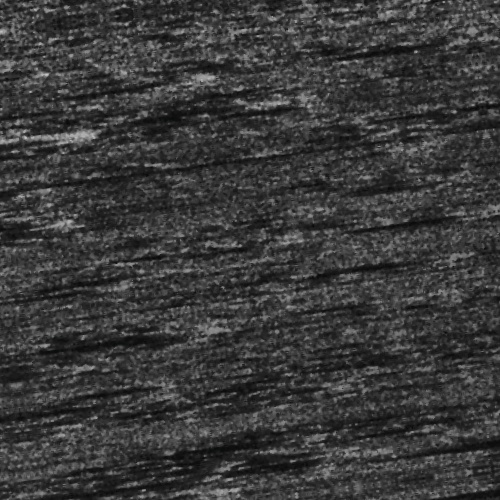object: (238, 453, 363, 476), (15, 100, 130, 119), (123, 477, 206, 500), (75, 378, 200, 389), (389, 276, 500, 287), (166, 63, 239, 74), (41, 187, 94, 202), (0, 180, 65, 189), (155, 319, 218, 326), (442, 65, 495, 72), (112, 476, 185, 481), (128, 256, 191, 261), (225, 439, 278, 444), (453, 239, 500, 244), (253, 453, 294, 456), (165, 465, 186, 470)
shadow: (31, 453, 301, 476), (0, 477, 165, 500), (19, 63, 202, 74), (0, 378, 137, 389), (0, 100, 72, 119), (330, 276, 446, 287), (388, 466, 500, 475), (0, 187, 67, 202), (50, 319, 187, 326), (341, 65, 468, 72), (16, 465, 175, 470), (0, 476, 148, 481), (124, 439, 251, 444), (74, 453, 274, 456), (369, 239, 484, 244), (46, 256, 160, 261), (43, 370, 126, 371), (0, 341, 35, 342)
